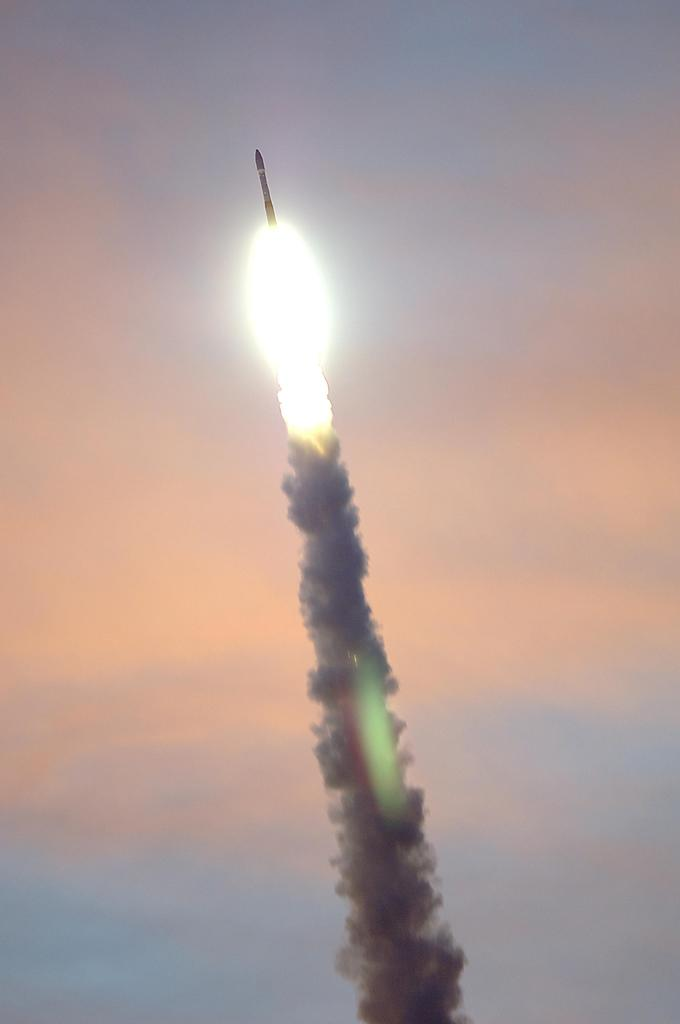Missile: (252, 143, 279, 225)
